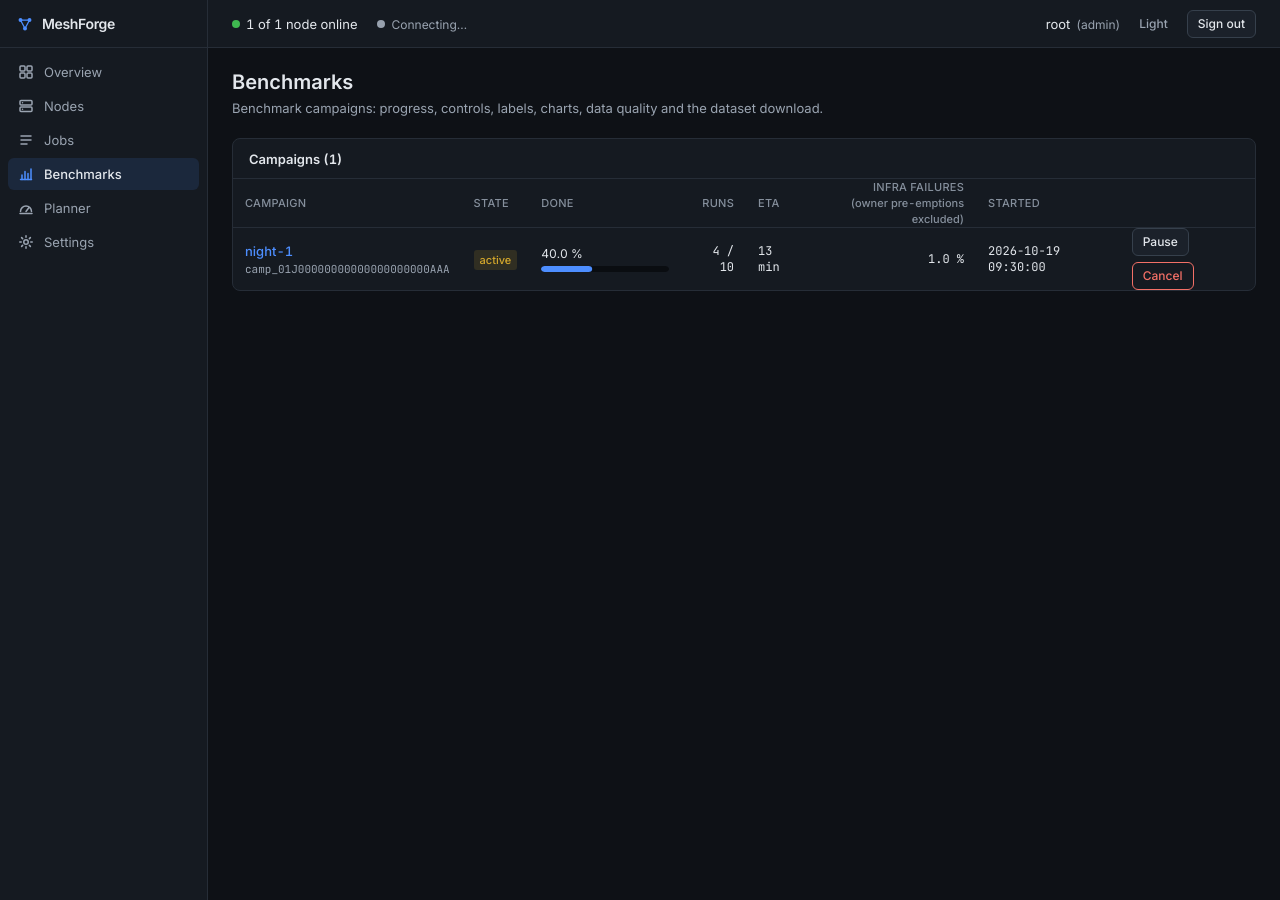
Test: controls under repeated clicks › controller down (network error) on a control toasts, no crash
The width and height of the screenshot is (1280, 900).
Click the button with aria-label "Pause campaign night-1" at (1160,242), box x1=1132 y1=228 x2=1189 y2=256
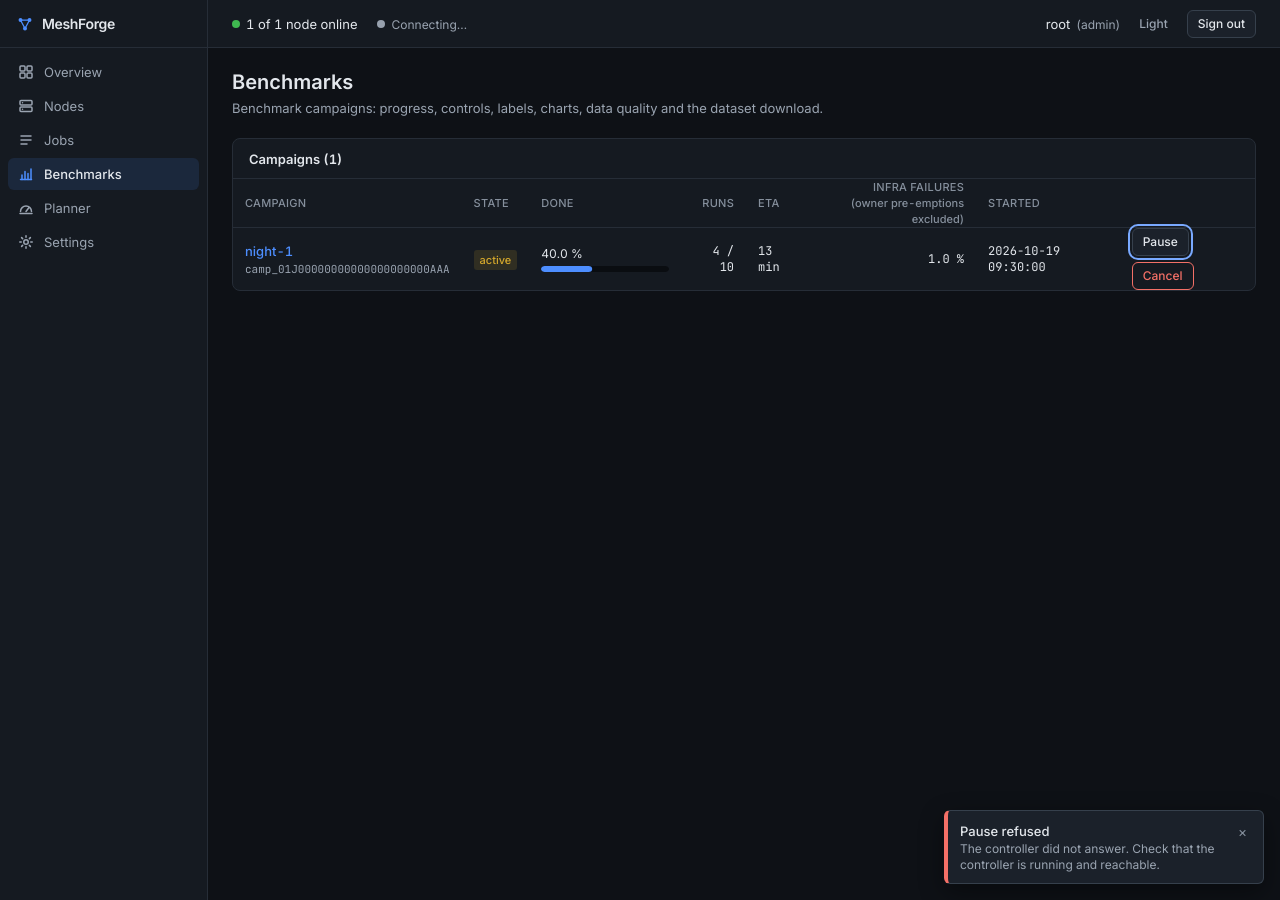
Expected: the link "night-1" is shown, x1=245 y1=243 x2=293 y2=259
Now the text "Pause refused" is shown, box x1=960 y1=823 x2=1050 y2=839
